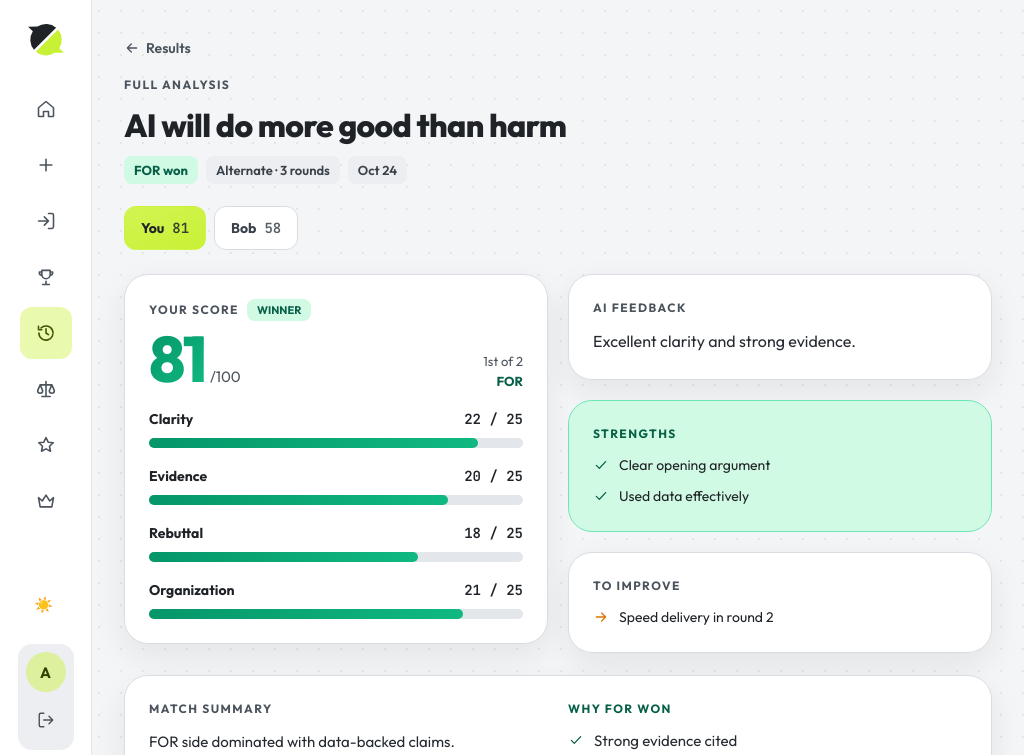
Test: DebateAnalysisPage › debater tabs (Pro user) › selecting another debater switches the panel to them
This screenshot has width=1024, height=755.
Check: the text "Excellent clarity and strong evidence." is shown, box top-left (593, 331), bottom-right (856, 351)
Click the tab "Bob 58". click: x=256, y=228
box: top-left (214, 206), bottom-right (298, 250)
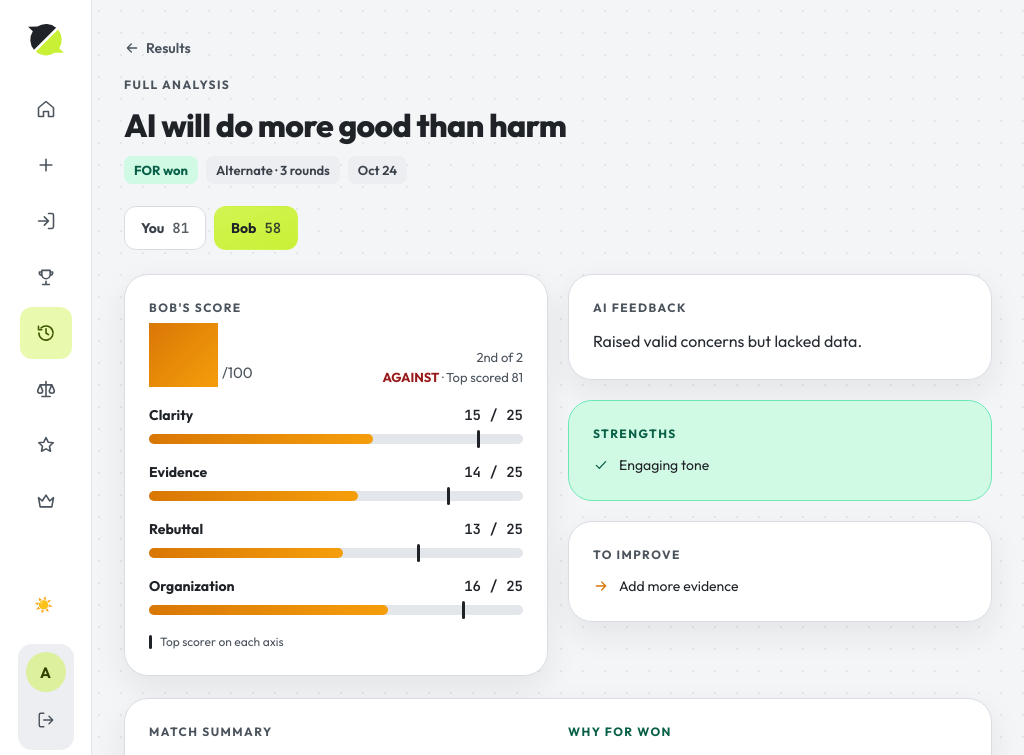
Check: the text "Raised valid concerns but lacked data." is shown, box top-left (593, 331), bottom-right (862, 351)
Check: the text "Excellent clarity and strong evidence." is gone
Check: the text "Bob's score" is shown, box top-left (149, 299), bottom-right (242, 317)
